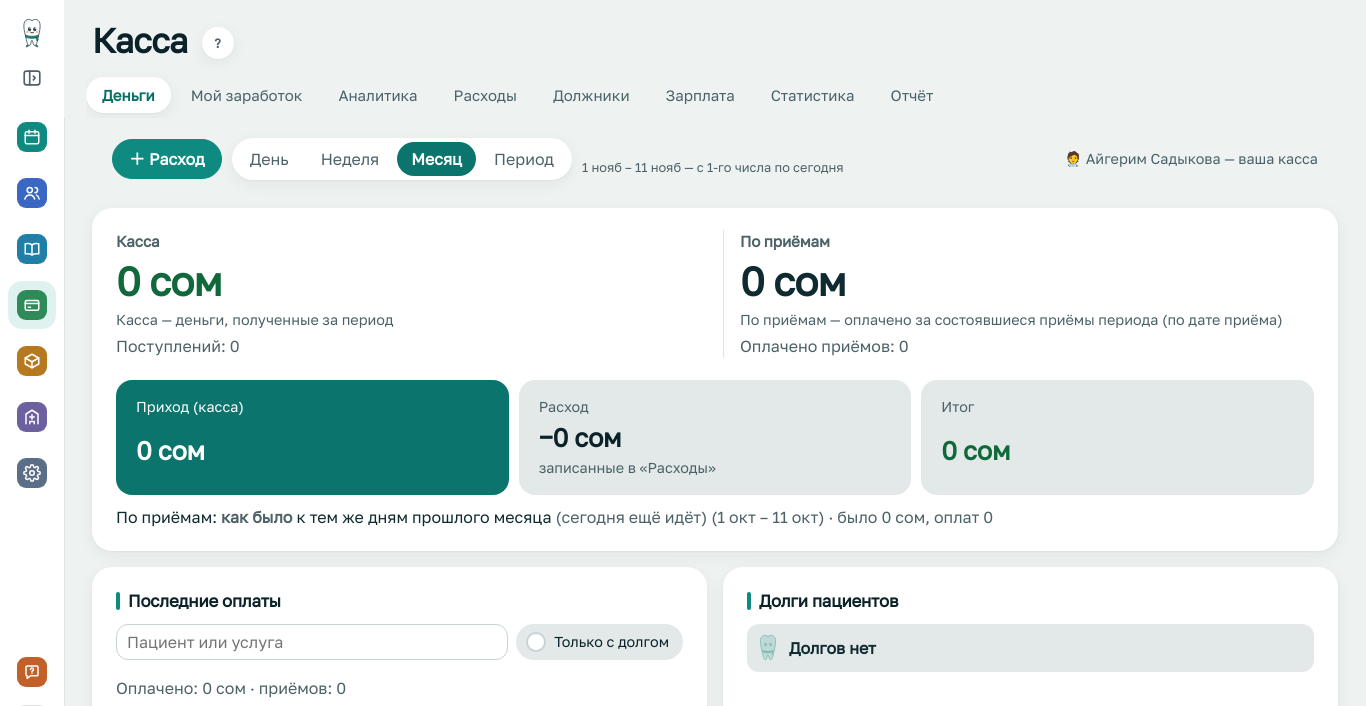
Test: «Мой заработок»: аренда больше заработка — минус и «вы должны клинике»
Expected: the navigation bar named "Разделы" is shown, [8,113,56,497]
Step 1. Click the link "Мой заработок" → [247, 95], box [191,86,302,104]
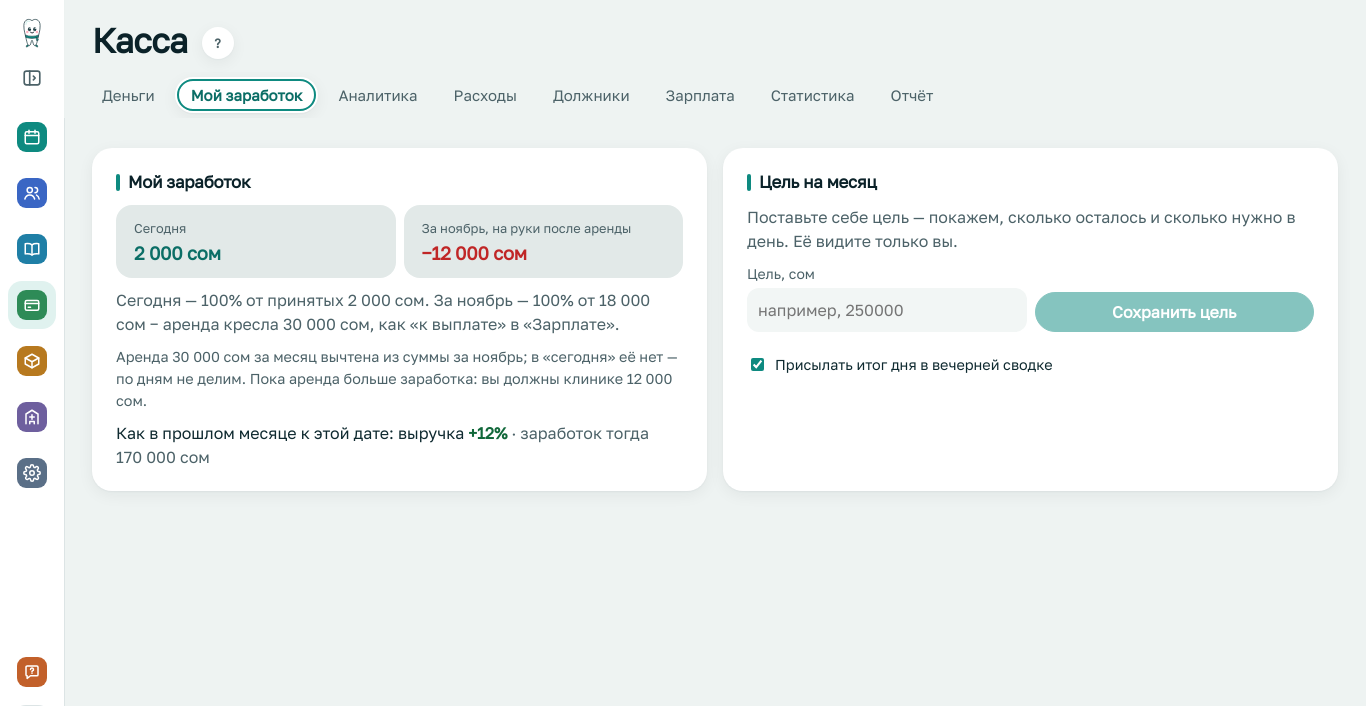
Expected: the text named "За месяц" reads "−12 000 сом", [422,242,527,264]
